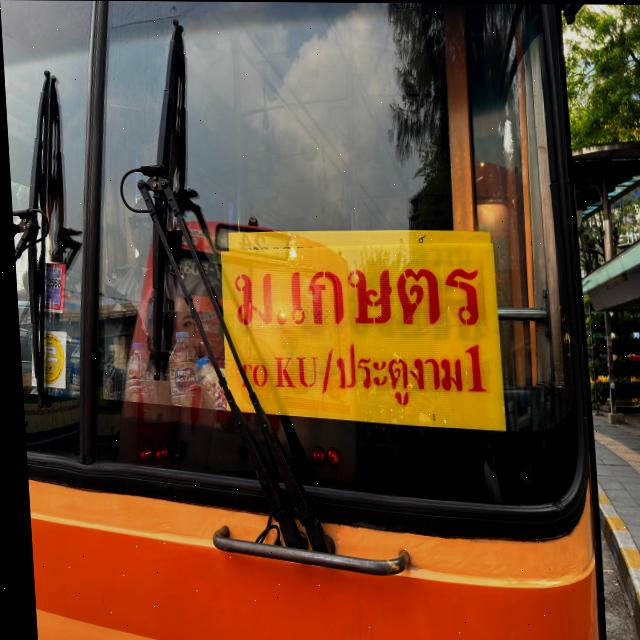BMTA-bus: (0, 0, 605, 640)
Destination-Sign-Extra-Bus-Expressway: (215, 242, 502, 429)
